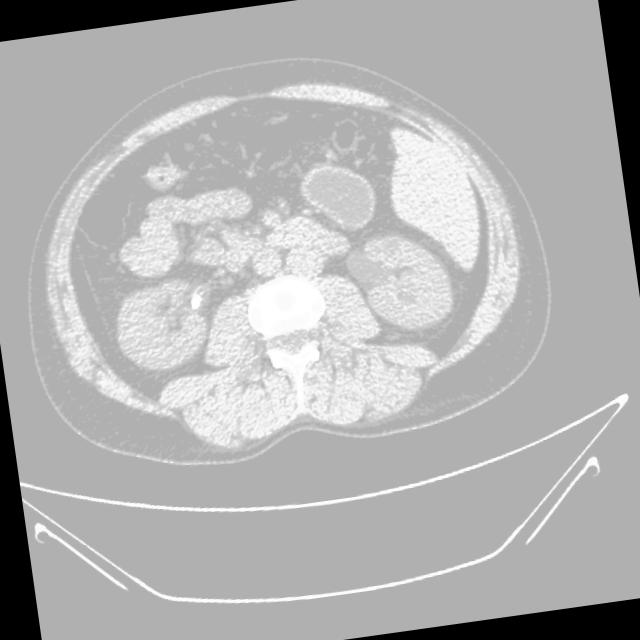STONE: (88, 68, 426, 331)
